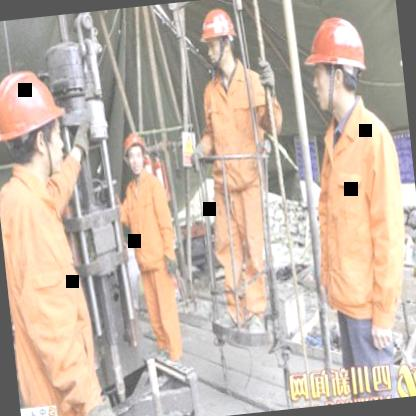helmet: (0, 52, 79, 203), (296, 3, 376, 123), (193, 5, 242, 70), (118, 125, 151, 181)
